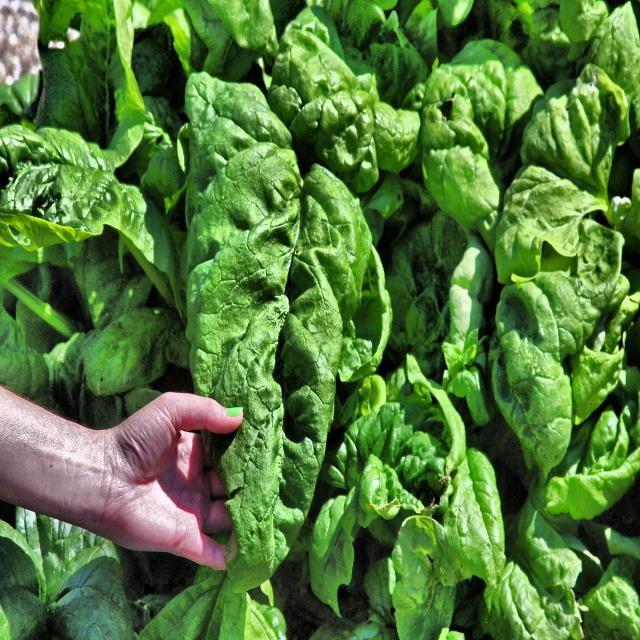spinach: (39, 18, 606, 601)
